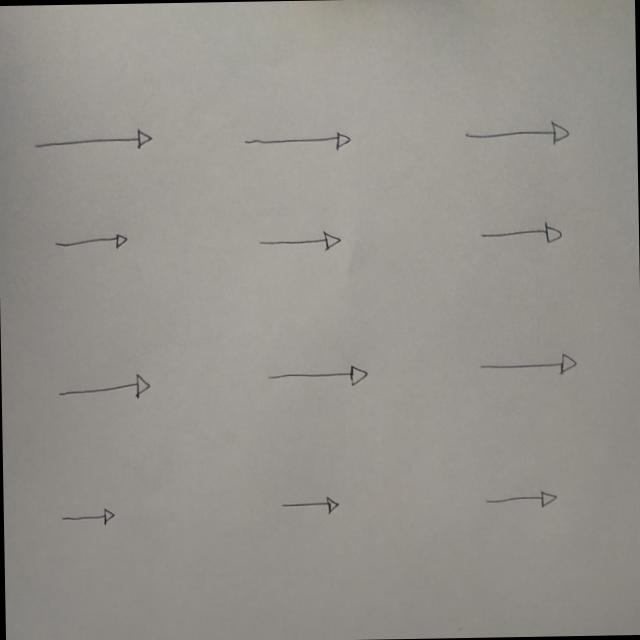arrow_line_right: (460, 111, 574, 152), (31, 120, 154, 157), (263, 354, 372, 394), (241, 120, 354, 157), (476, 342, 579, 382), (56, 369, 151, 410), (477, 212, 568, 252), (256, 222, 346, 259), (54, 226, 130, 261), (482, 480, 560, 514), (280, 488, 342, 518), (60, 500, 116, 531)
